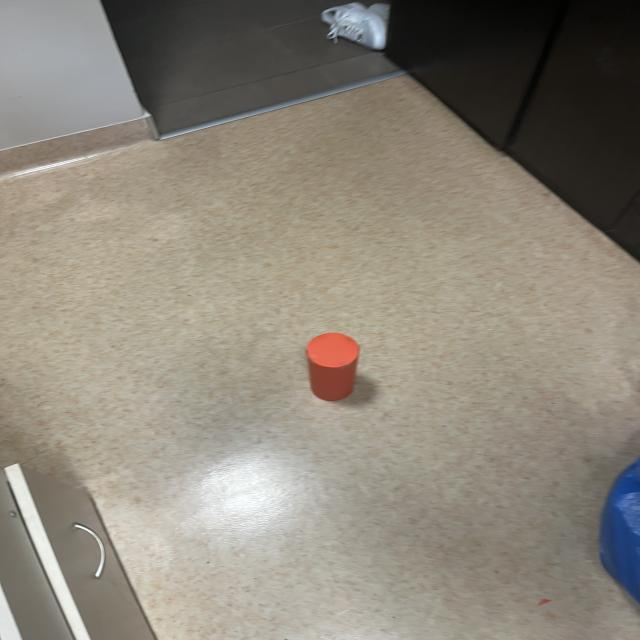przeszkoda: (306, 333, 359, 401)
